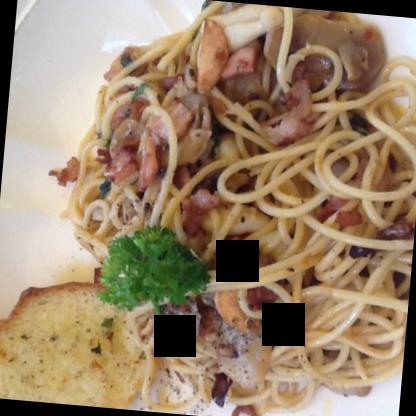pasta: (48, 0, 415, 415)
